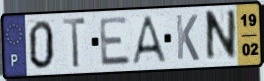0: (27, 18, 56, 71)
A: (131, 14, 170, 66)
E: (98, 15, 133, 68)
K: (174, 13, 201, 62)
N: (204, 8, 238, 65)
T: (61, 16, 88, 70)
